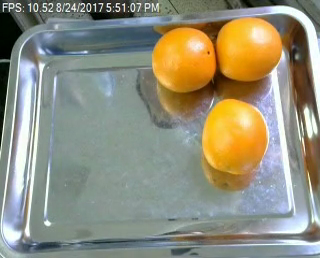Orange: (201, 99, 267, 175), (151, 27, 217, 91), (215, 17, 282, 80)
